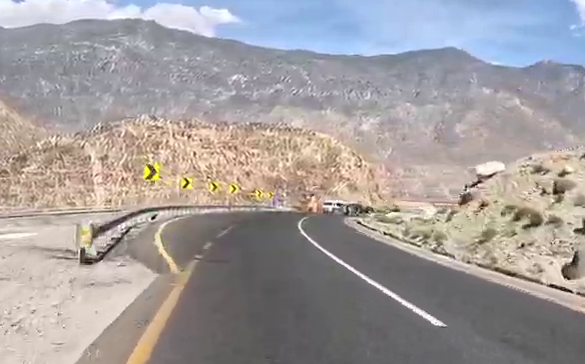stright: (136, 166, 415, 297)
